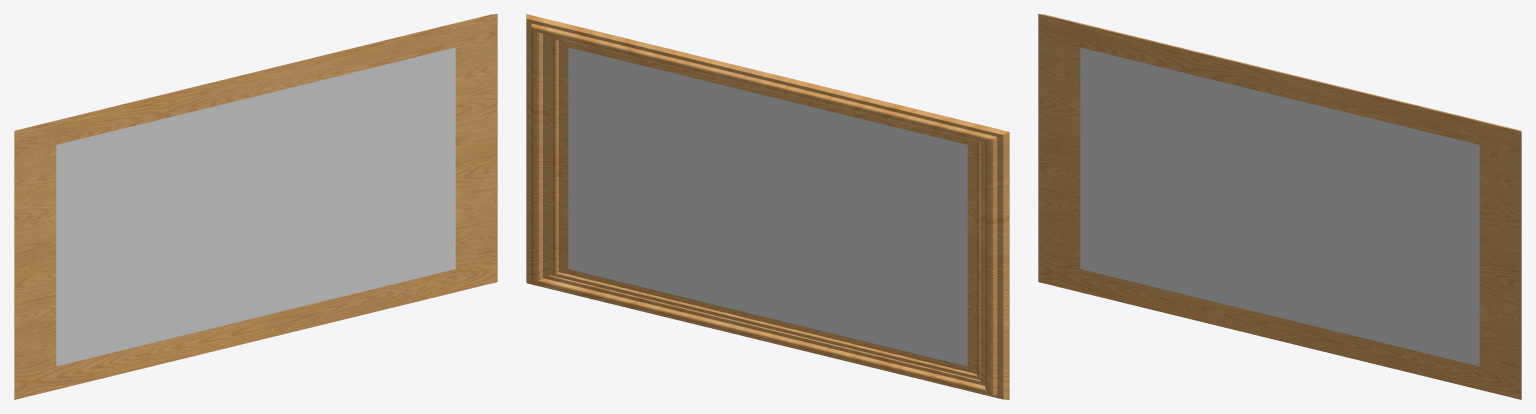
File: STORE VIDEO FRAME.gltf
3 views of the same model, side by side, from view 1: azimuth 30°, elevation 25°; view 2: azimuth 150°, elevation 25°; view 3: azimuth 330°, elevation 25° (orthographic).
Visible parts, largest first — view 1: store video FRAME LEFT; view 2: store video FRAME LEFT; view 3: store video FRAME LEFT.
Boxes of the visible parts, x1,y1,x2,y2 form: store video FRAME LEFT: (14,14,497,399); store video FRAME LEFT: (526,14,1009,399); store video FRAME LEFT: (1038,14,1521,399).
Size of the model in its own units: 9.15 by 4.85 by 0.1874.
2 materials, 1 textured.
